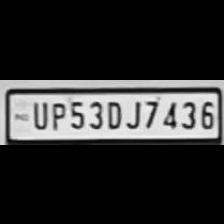3: (178, 96, 198, 128), (86, 96, 104, 130)
4: (159, 97, 179, 128)
5: (66, 97, 86, 129)
6: (196, 96, 216, 128)
7: (140, 96, 158, 128)
D: (103, 96, 123, 128)
J: (123, 96, 141, 128)
P: (47, 98, 66, 130)
U: (28, 97, 48, 128)
